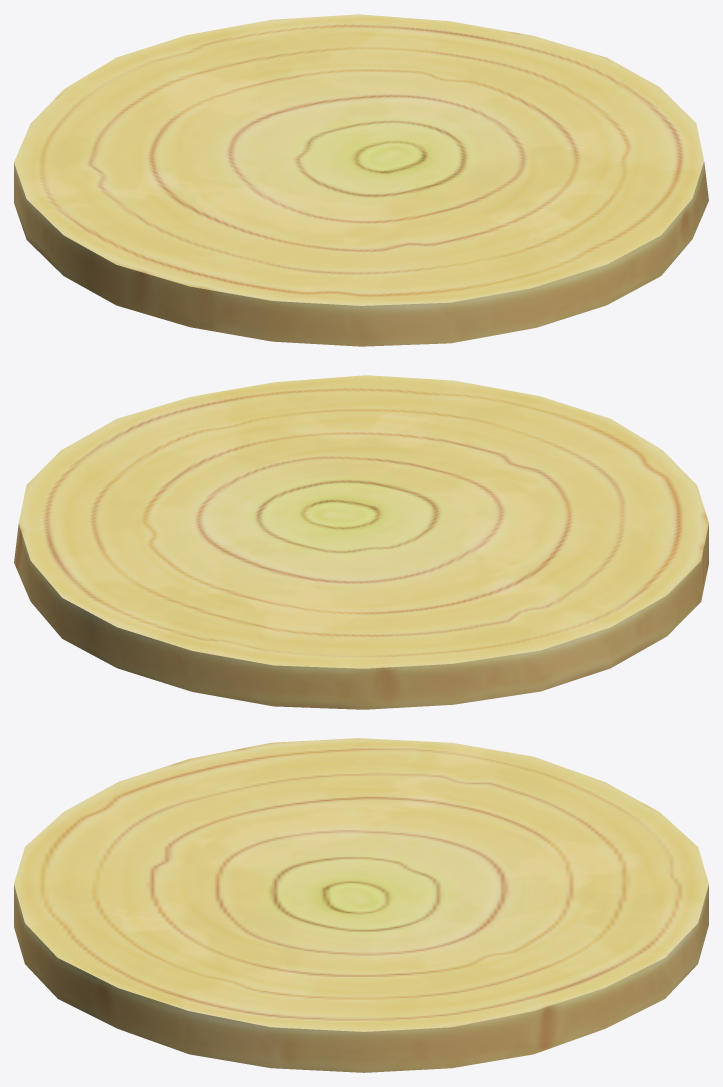
File: sogan.fbx
3 views of the same model, one above another, from view 1: azimuth 30°, elevation 25°; view 2: azimuth 150°, elevation 25°; view 3: azimuth 270°, elevation 25° (orthographic).
Parts seen in each view (by area): view 1: SM_OnionARing_Onion_0; view 2: SM_OnionARing_Onion_0; view 3: SM_OnionARing_Onion_0.
Boxes of the visible parts, <box> form: SM_OnionARing_Onion_0: <box>14,14,708,346</box>; SM_OnionARing_Onion_0: <box>14,375,708,709</box>; SM_OnionARing_Onion_0: <box>14,738,708,1072</box>.
Bounding box in the file's own units: 15.1 × 0.9801 × 15.09.
